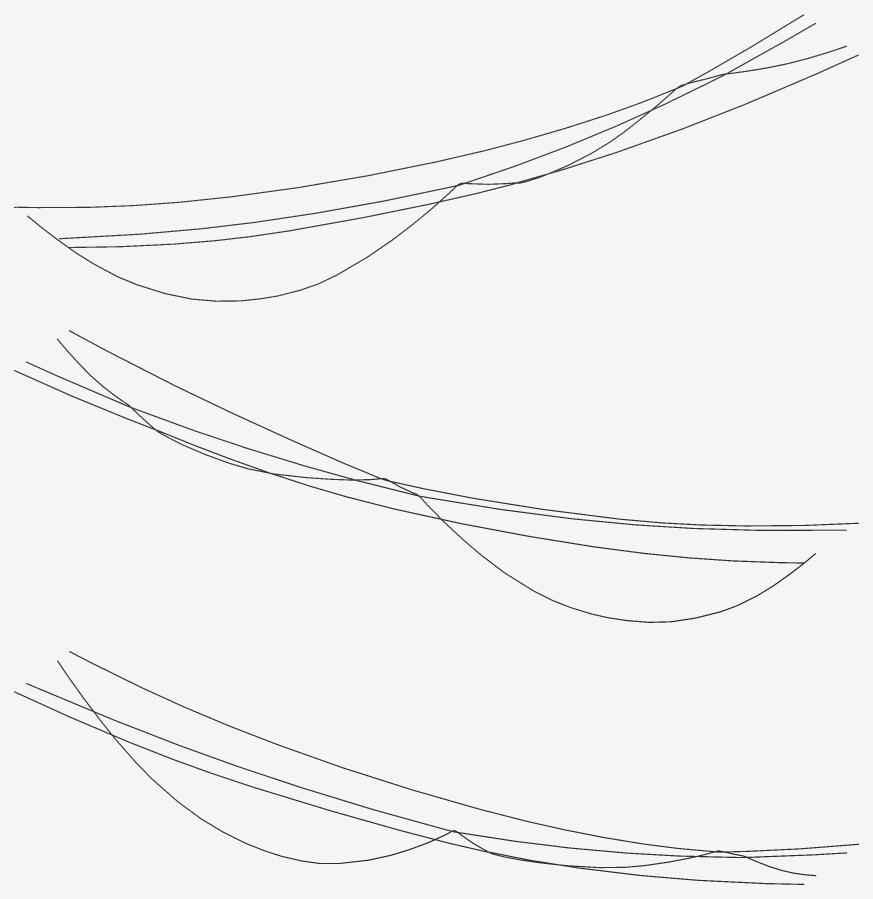
File: SM_Cable_04b.fbx
3 renders of one model, top to bottom at view 1: azimuth 30°, elevation 25°; view 2: azimuth 150°, elevation 25°; view 3: azimuth 330°, elevation 25°, orthographic.
Parts seen in each view (by area): view 1: SM_Cable_04b; view 2: SM_Cable_04b; view 3: SM_Cable_04b.
Boxes of the visible parts, box(x1,y1,x2,y2) form: SM_Cable_04b: box(14, 14, 858, 301); SM_Cable_04b: box(14, 330, 858, 622); SM_Cable_04b: box(14, 651, 858, 884).
Bounding box in the file's own units: 1394 × 218 × 170.
Materials: 1 (1 with a texture image).
